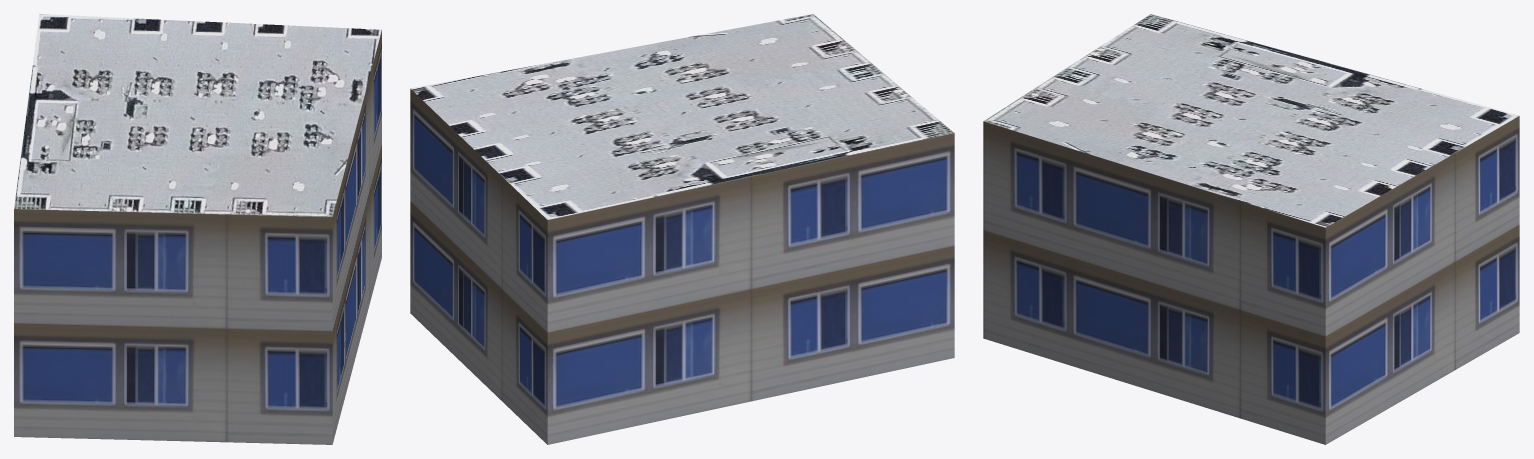
The model's file is ResTex__242.fbx.
3 views of the same model, side by side, from view 1: azimuth 30°, elevation 25°; view 2: azimuth 150°, elevation 25°; view 3: azimuth 270°, elevation 25° (orthographic). The views are drawn at different scales.
Visible parts, largest first — view 1: CityEngineMaterial_23_m, CityEngineMaterial_4_m; view 2: CityEngineMaterial_23_m, CityEngineMaterial_4_m; view 3: CityEngineMaterial_23_m, CityEngineMaterial_4_m.
Boxes of the visible parts, box(x1,y1,x2,y2) form: CityEngineMaterial_23_m: box(14, 30, 381, 444); CityEngineMaterial_4_m: box(14, 14, 381, 216); CityEngineMaterial_23_m: box(410, 89, 954, 444); CityEngineMaterial_4_m: box(410, 14, 953, 219); CityEngineMaterial_23_m: box(983, 116, 1519, 444); CityEngineMaterial_4_m: box(984, 14, 1519, 227).
Size of the model in its own units: 12.66 by 6 by 13.42.
Materials: 2 (2 with a texture image).
